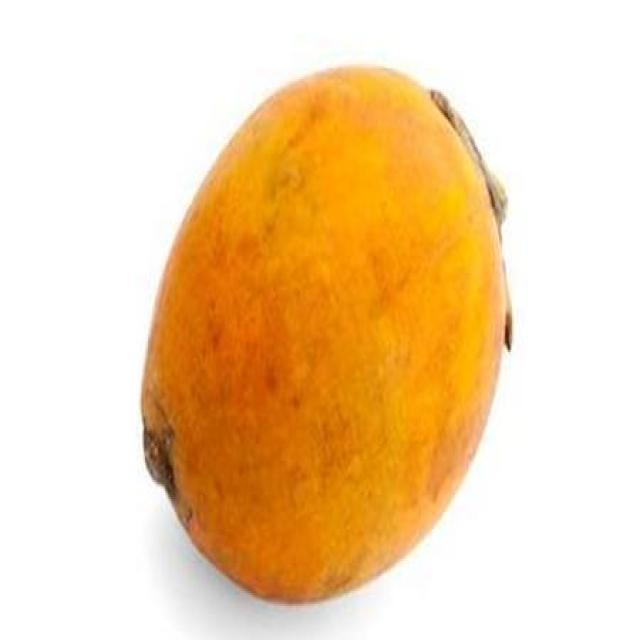good: (139, 66, 512, 608)
